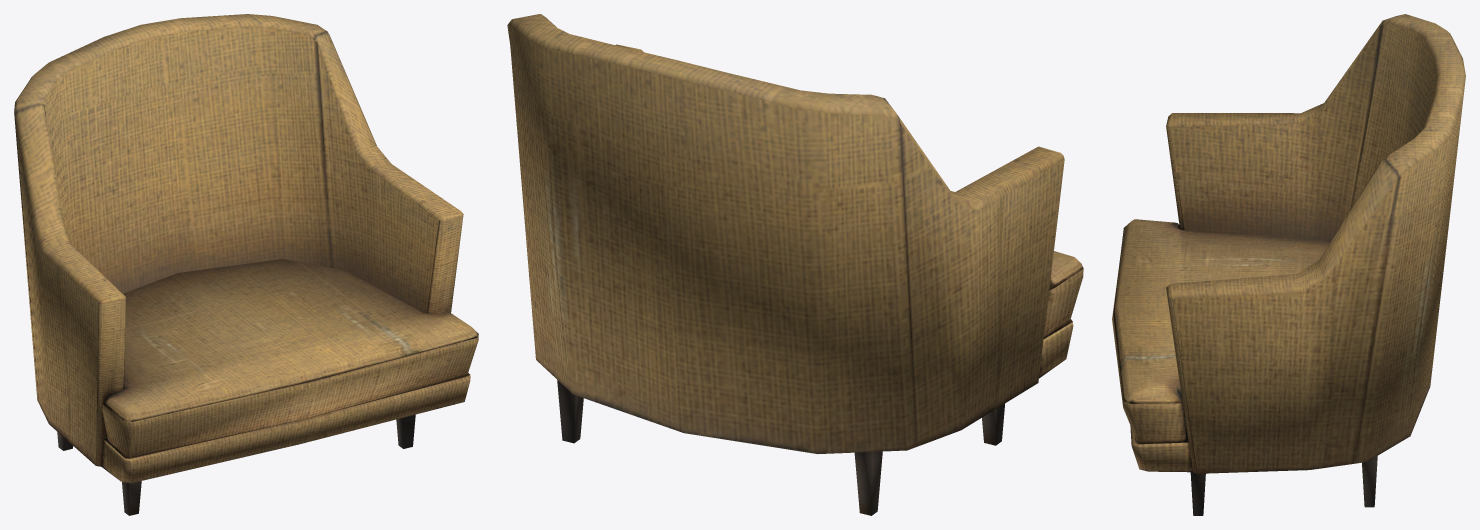
Rendered from easy_chair.obj.
3 views of the same model, side by side, from view 1: azimuth 30°, elevation 25°; view 2: azimuth 150°, elevation 25°; view 3: azimuth 270°, elevation 25° (orthographic). The views are drawn at different scales.
Parts seen in each view (by area): view 1: Model001_5_Material6367_1.0_0.0_0.0; view 2: Model001_5_Material6367_1.0_0.0_0.0; view 3: Model001_5_Material6367_1.0_0.0_0.0.
Part boxes in pixels (x1,y1,x2,y2): Model001_5_Material6367_1.0_0.0_0.0: (14,14,478,515); Model001_5_Material6367_1.0_0.0_0.0: (507,14,1083,515); Model001_5_Material6367_1.0_0.0_0.0: (1112,14,1465,515).
Bounding box in the file's own units: 1.16 × 1.1 × 0.9436.
